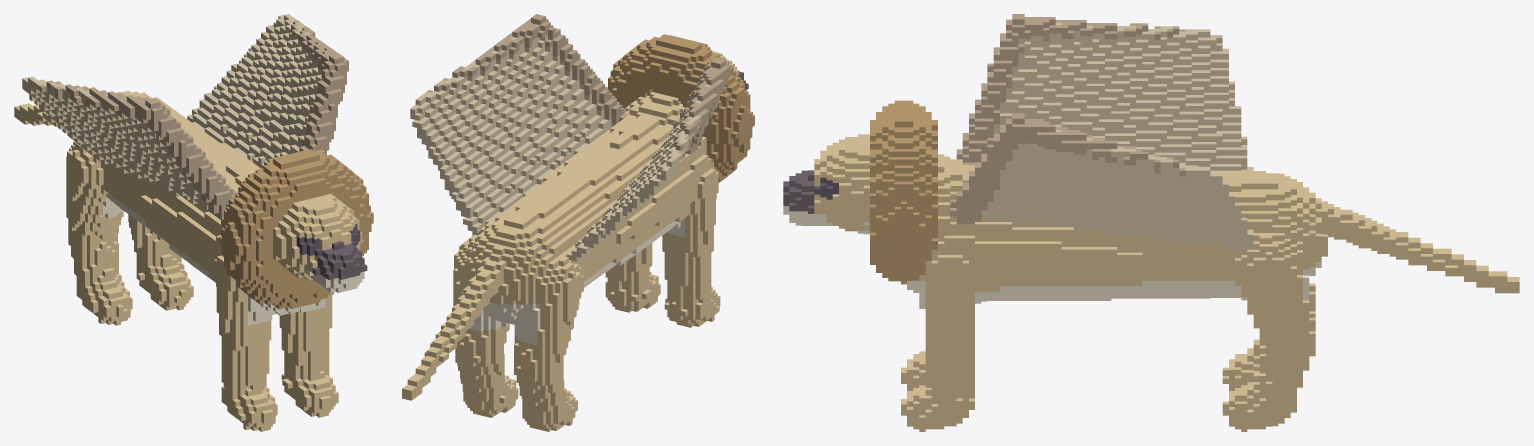
File: winged_lion.glb
3 views of the same model, side by side, from view 1: azimuth 30°, elevation 25°; view 2: azimuth 150°, elevation 25°; view 3: azimuth 270°, elevation 25° (orthographic). The views are drawn at different scales.
Visible parts, largest first — view 1: item; view 2: item; view 3: item.
Part boxes in pixels (x1,y1,x2,y2): item: [14, 14, 373, 431]; item: [402, 14, 754, 431]; item: [783, 14, 1519, 431].
Bounding box in the file's own units: 54 × 61 × 119.
